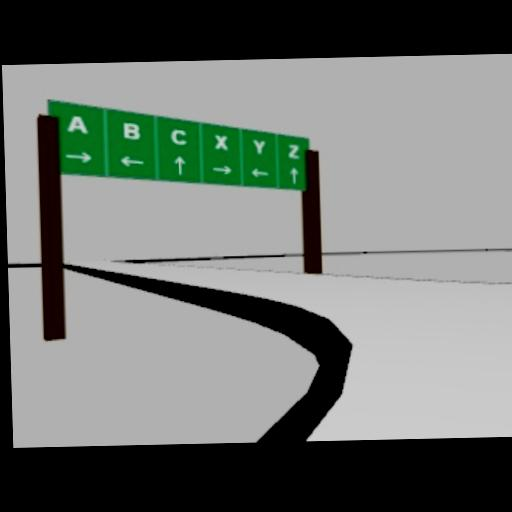A: (64, 112, 89, 135)
B: (121, 119, 143, 141)
C: (169, 126, 189, 146)
Left: (119, 152, 145, 168), (250, 166, 271, 179)
Right: (64, 149, 93, 164), (211, 163, 233, 175)
Straight: (172, 153, 188, 175), (289, 165, 300, 184)
X: (213, 131, 230, 151)
Y: (250, 136, 267, 155)
Z: (288, 141, 301, 160)
